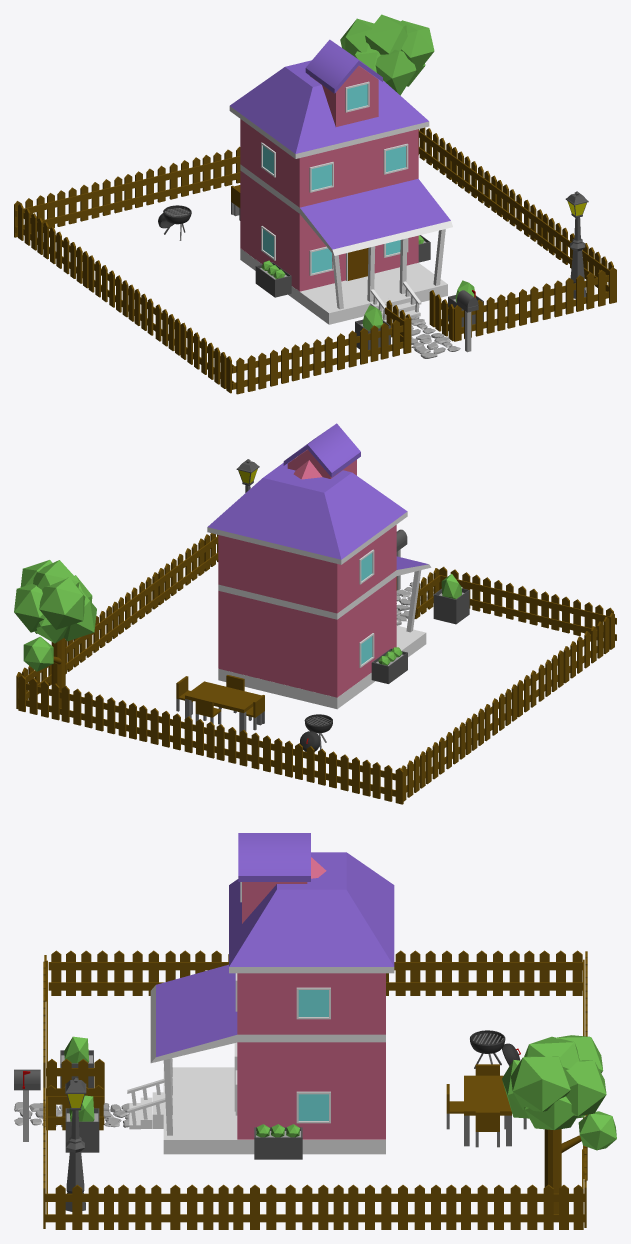
The model's file is eee14.fbx.
3 renders of one model, top to bottom at view 1: azimuth 30°, elevation 25°; view 2: azimuth 150°, elevation 25°; view 3: azimuth 270°, elevation 25°, orthographic. The views are drawn at different scales.
Parts seen in each view (by area): view 1: eee14; view 2: eee14; view 3: eee14.
Boxes of the visible parts, left/top/right/bottom form: eee14: left=14, top=14, right=616, bottom=394; eee14: left=14, top=423, right=616, bottom=804; eee14: left=14, top=833, right=616, bottom=1229.
Bounding box in the file's own units: 25.73 × 14.48 × 27.03.
